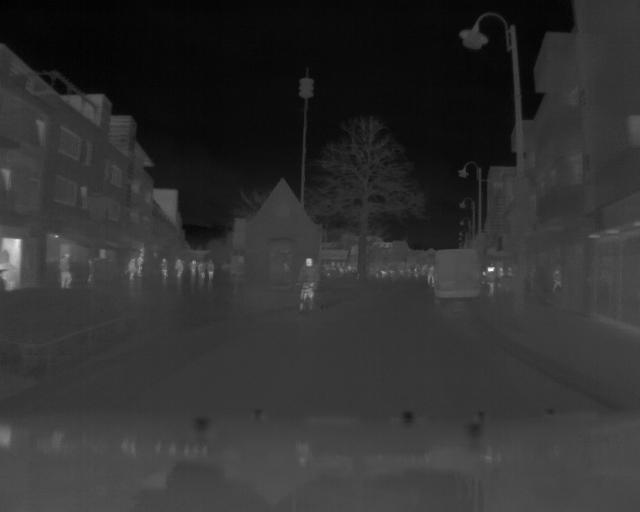car: (431, 243, 484, 304)
person: (297, 254, 320, 313), (57, 250, 75, 292), (125, 255, 138, 280), (172, 257, 184, 280), (159, 256, 169, 281), (205, 258, 215, 283), (197, 258, 206, 285), (190, 258, 198, 280)
